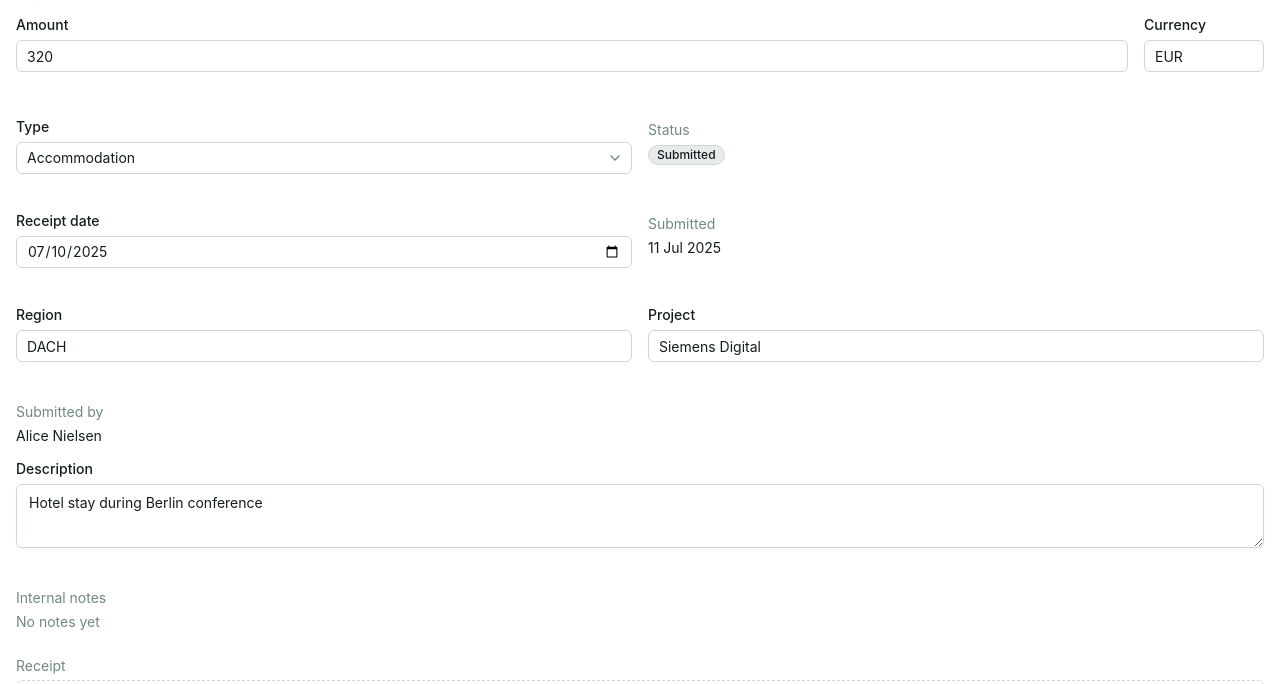
it: ExpenseDetailCard › resubmit › invalid submission › shows an amount error when the amount is cleared
Clear the number field labelled "Amount" at (572, 56), box [16, 40, 1128, 72]
(page scrolled)
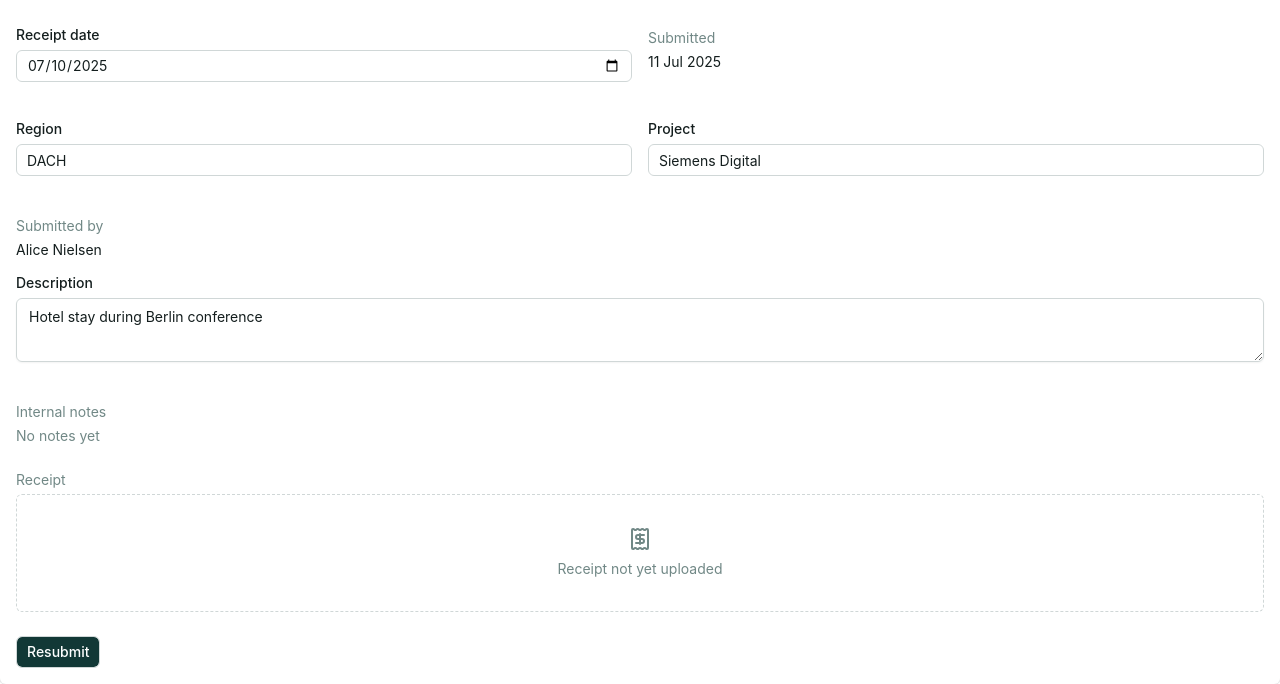
Click the button "Resubmit".
click(58, 652)  # box [16, 636, 100, 668]
(page scrolled)
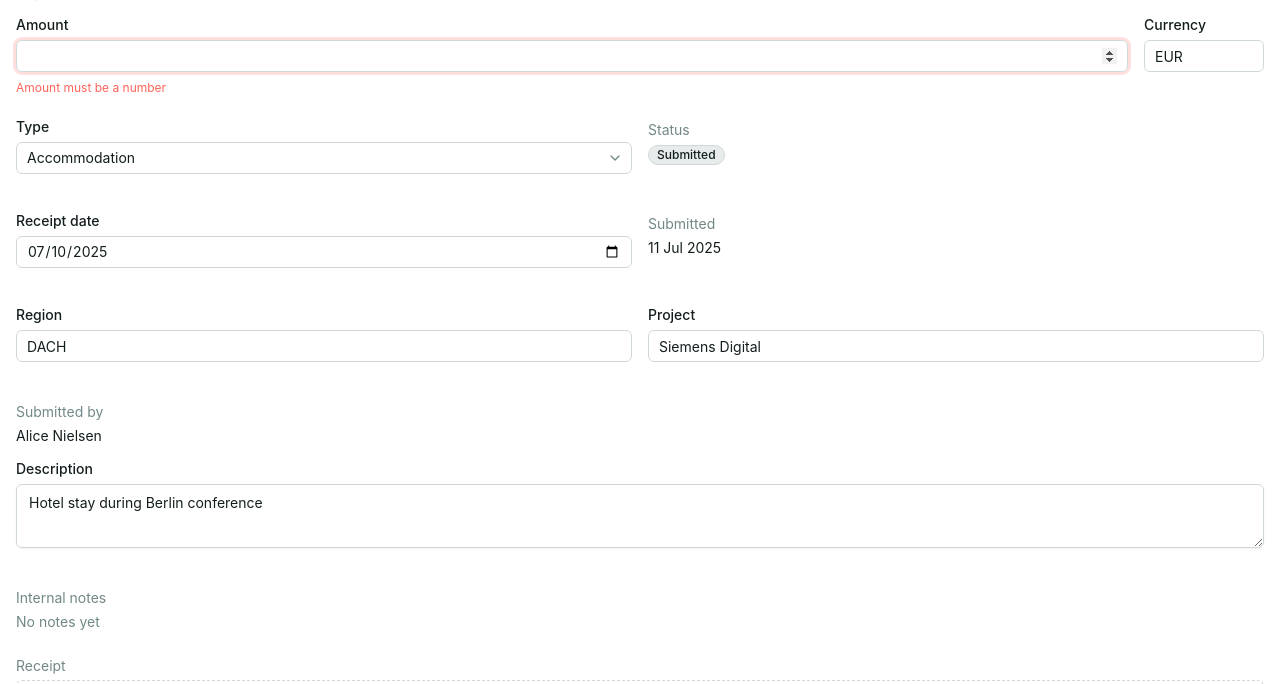
Now the text "Amount must be a number" is shown, box [16, 80, 166, 95]
